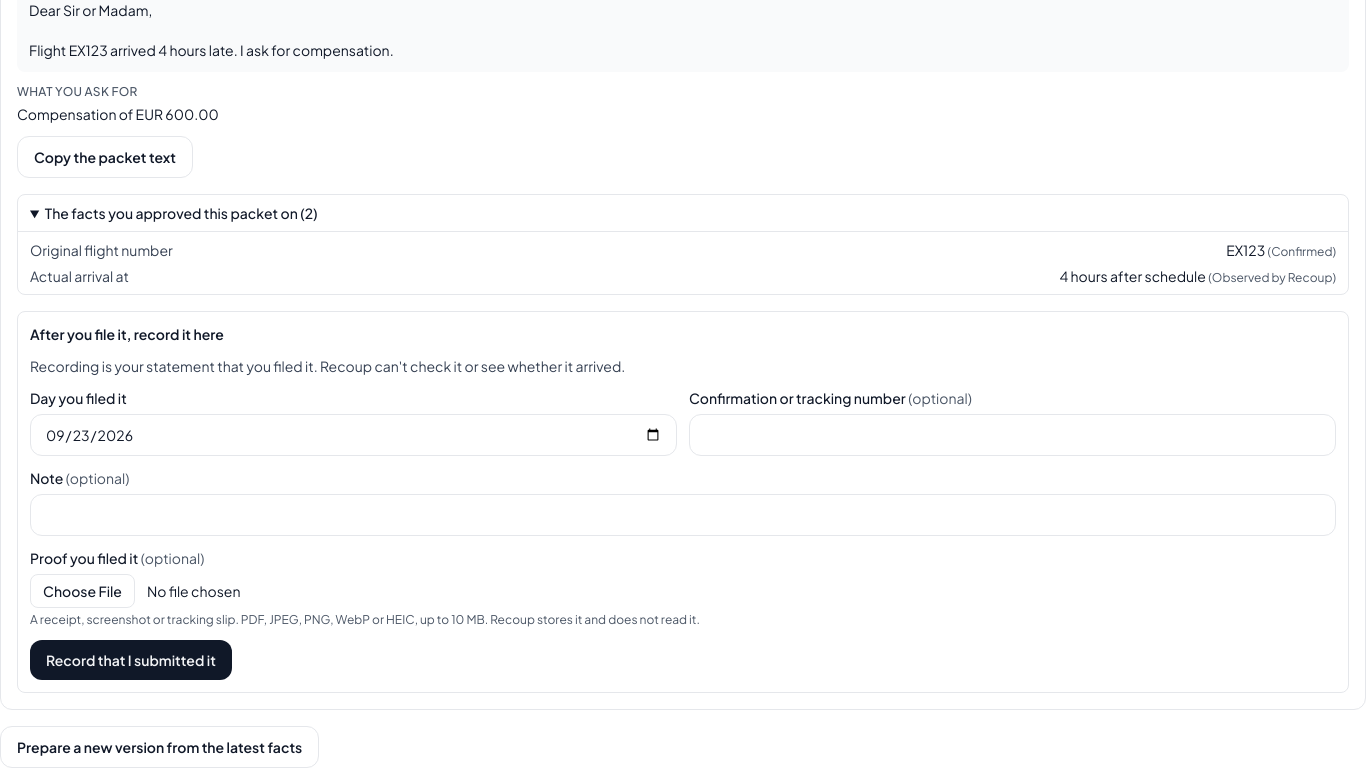
Test case: recording the user's own submission (submissions.record) › a future day is refused before anything is sent
(page scrolled)
Type "2999-01-01" into the date field labelled "Day you filed it" at (354, 435), box [30,414,677,456]
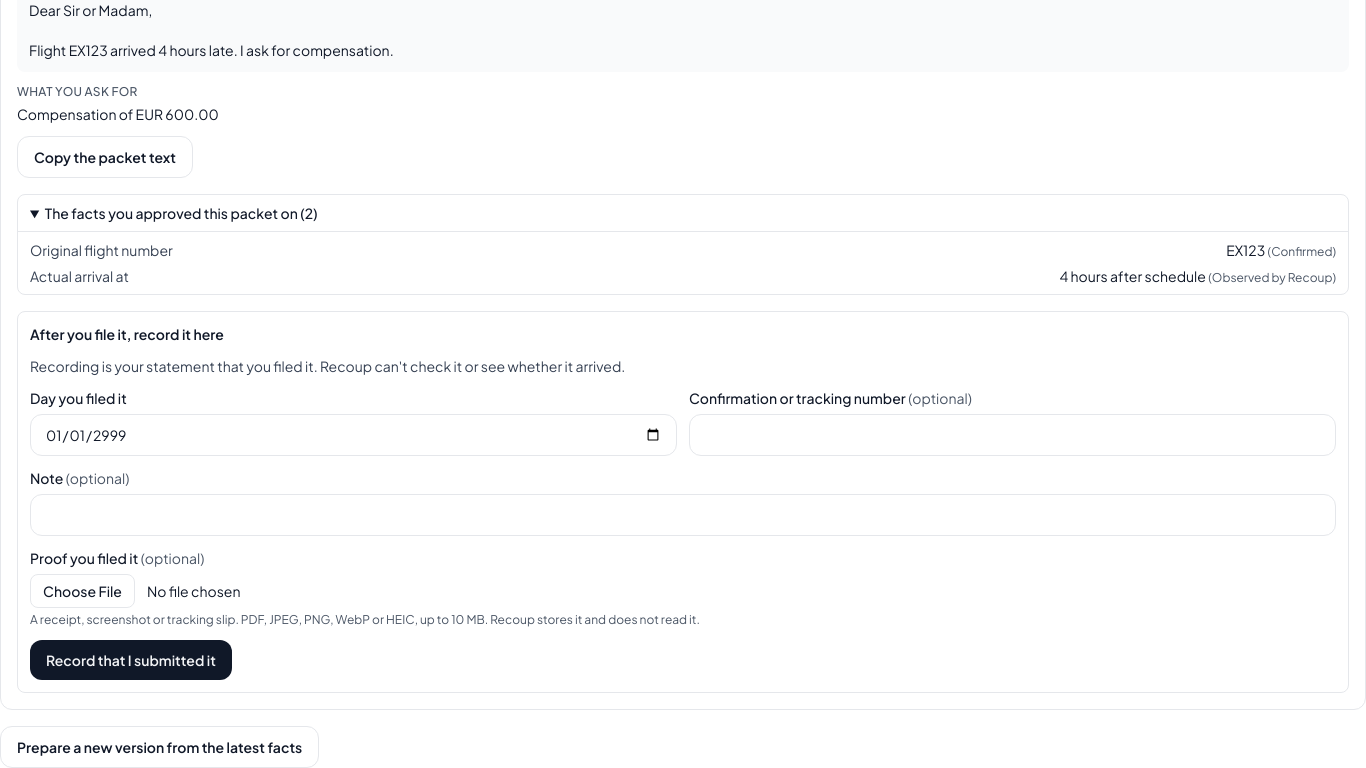
Click the button "Record that I submitted it" at (131, 660), box [30,640,232,680]
(page scrolled)
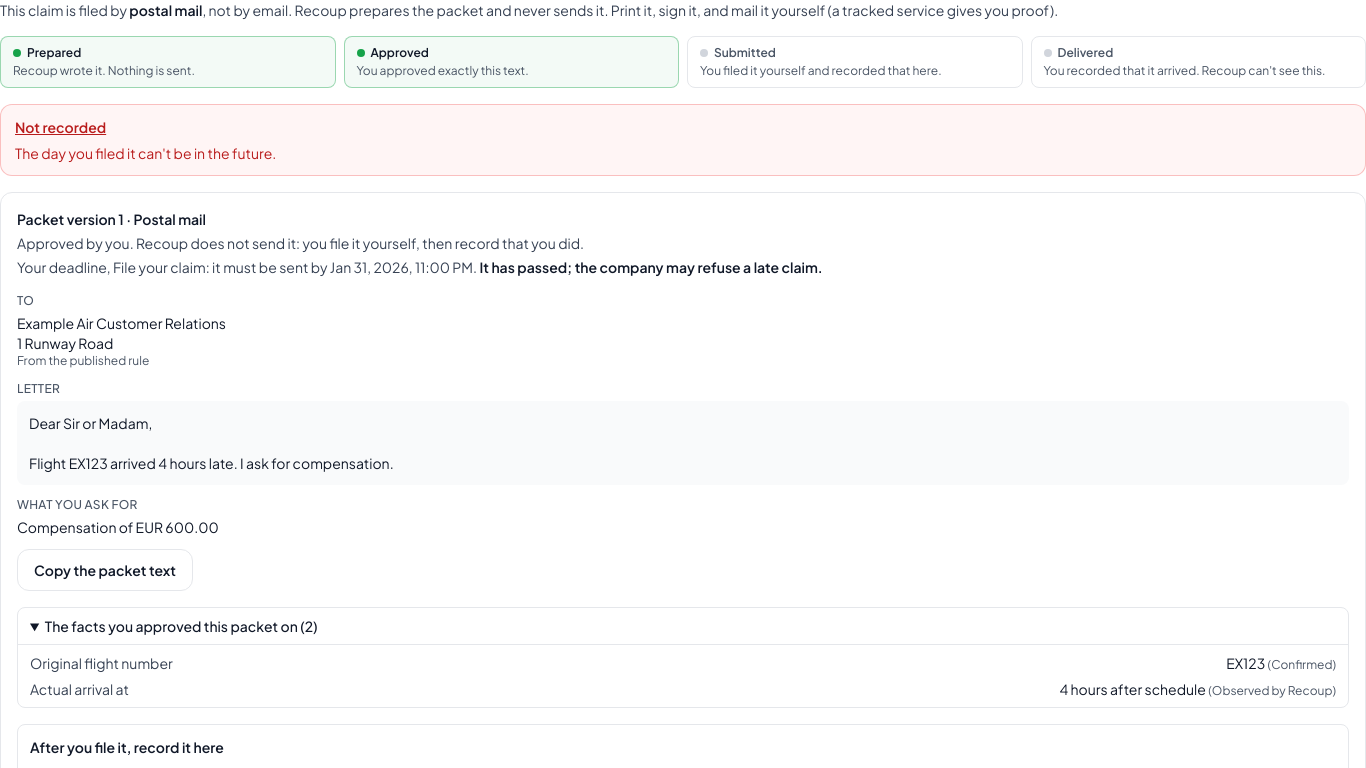
Expected: the heading "Not recorded" is shown, [15,118,106,136]
